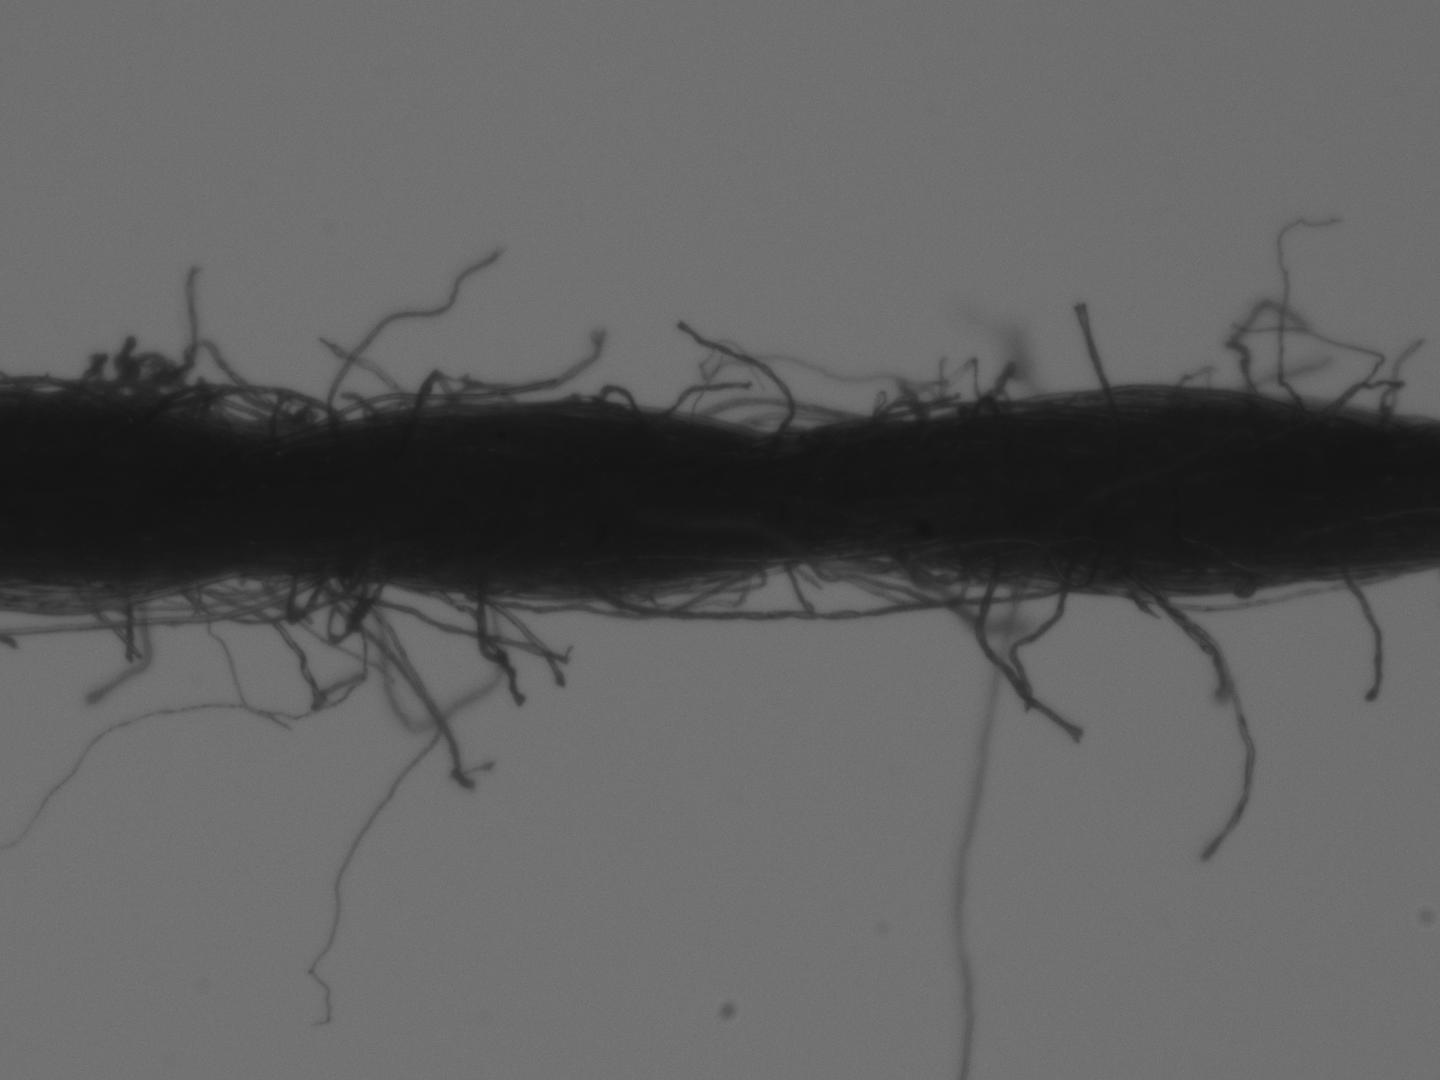loop_fiber: (573, 537, 1112, 628), (71, 327, 354, 444), (1213, 290, 1386, 422), (863, 352, 1027, 433), (175, 567, 334, 628), (692, 394, 856, 438), (315, 564, 399, 647), (405, 362, 517, 421), (1, 584, 167, 618)
protruding_fiber: (1070, 295, 1128, 431), (1335, 564, 1388, 709)
